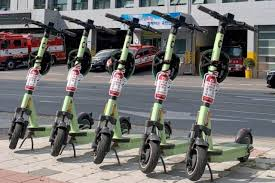kick_board: (185, 146, 205, 178), (139, 141, 158, 171), (92, 132, 108, 163), (239, 128, 253, 161), (50, 129, 65, 155), (10, 123, 22, 150), (78, 113, 94, 128), (119, 118, 131, 134)
kick_body: (214, 143, 243, 159), (120, 135, 146, 147), (166, 138, 188, 152)
kick_handler: (199, 5, 257, 32), (152, 9, 204, 33), (106, 13, 161, 33), (63, 16, 116, 35), (23, 18, 75, 37)
